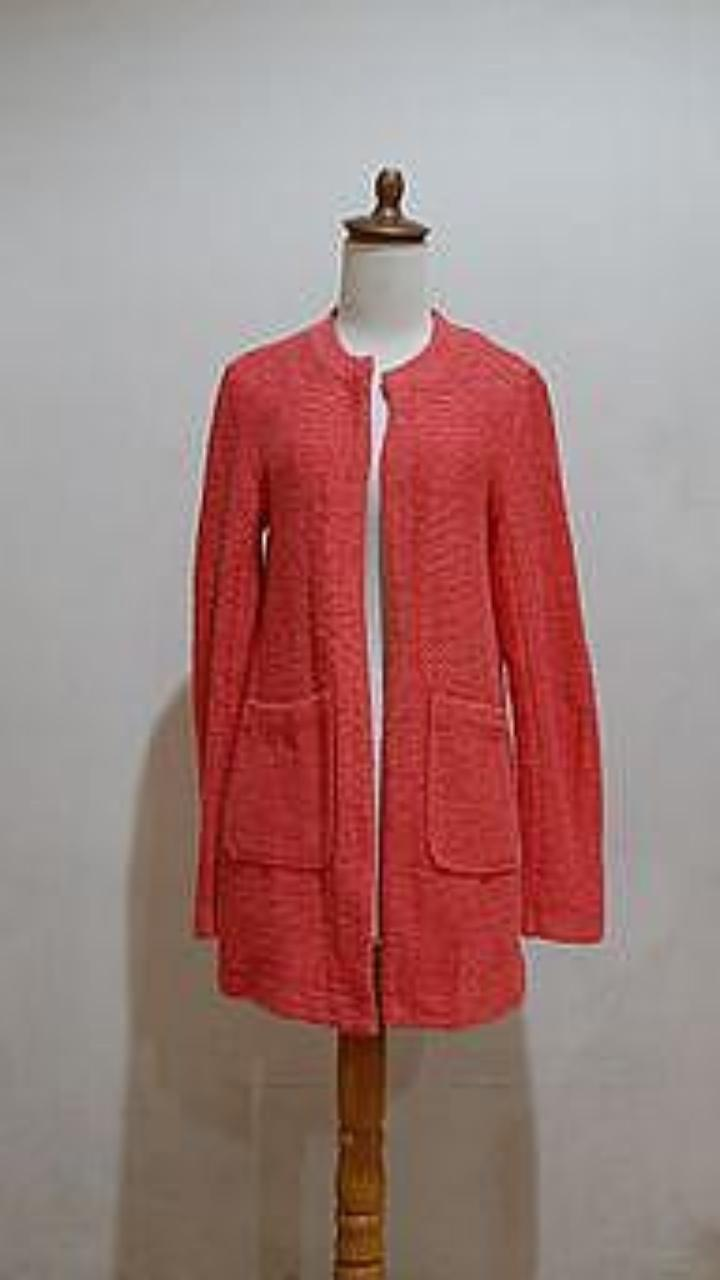Coat: (191, 306, 603, 1033)
